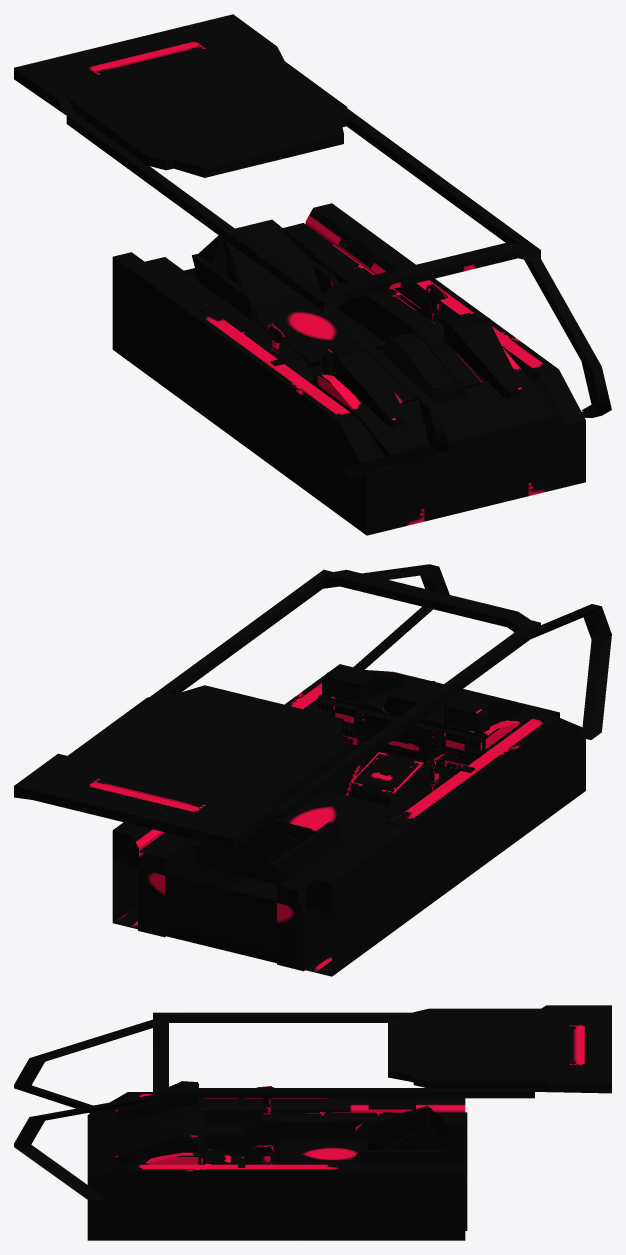
File: player.fbx
The picture shows the model from 3 angles, top to bottom: view 1: azimuth 30°, elevation 25°; view 2: azimuth 150°, elevation 25°; view 3: azimuth 270°, elevation 25°; orthographic projection. The views are drawn at different scales.
Visible parts, largest first — view 1: cock; view 2: cock; view 3: cock.
Boxes of the visible parts, x1=… form: cock: x1=14, y1=14, x2=611, y2=535; cock: x1=14, y1=564, x2=611, y2=976; cock: x1=14, y1=1005, x2=611, y2=1240.
Size of the model in its own units: 341 by 277 by 947.
1 material, 1 textured.
